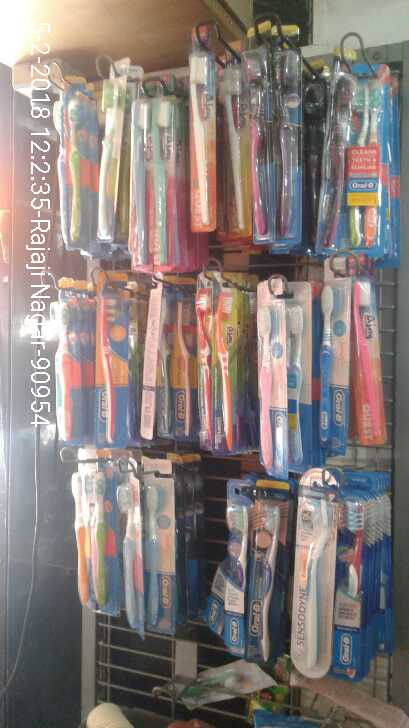oralb: (321, 72, 404, 250), (334, 503, 385, 681), (314, 283, 356, 466), (89, 290, 130, 451), (249, 495, 273, 663)
